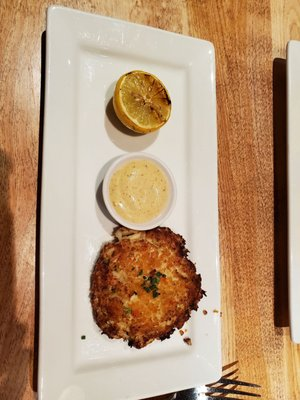sushi: (101, 154, 176, 231)
